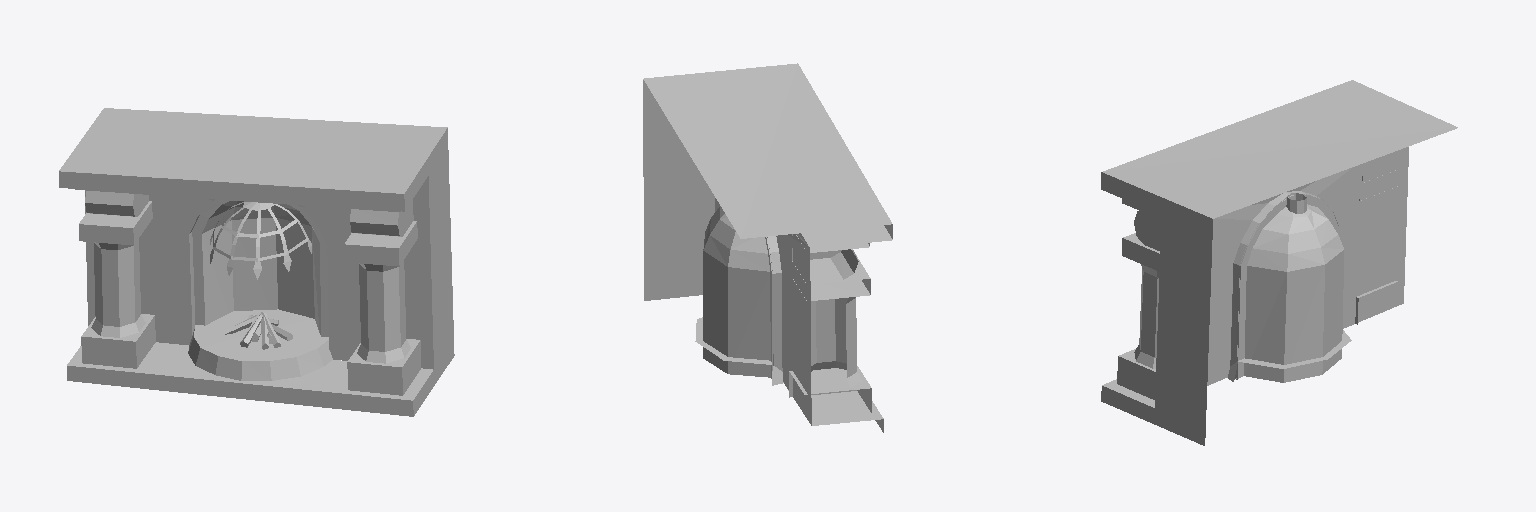
Rendered from ma_fireplace_a.obj.
The picture shows the model from 3 angles: view 1: azimuth 30°, elevation 25°; view 2: azimuth 150°, elevation 25°; view 3: azimuth 270°, elevation 25°; orthographic projection.
Parts seen in each view (by area): view 1: ma_fireplace_a; view 2: ma_fireplace_a; view 3: ma_fireplace_a.
Part boxes in pixels (x1,y1,x2,y2): ma_fireplace_a: (59, 108, 454, 416); ma_fireplace_a: (643, 63, 892, 432); ma_fireplace_a: (1101, 80, 1457, 445).
Bounding box in the file's own units: 325 × 220 × 312.